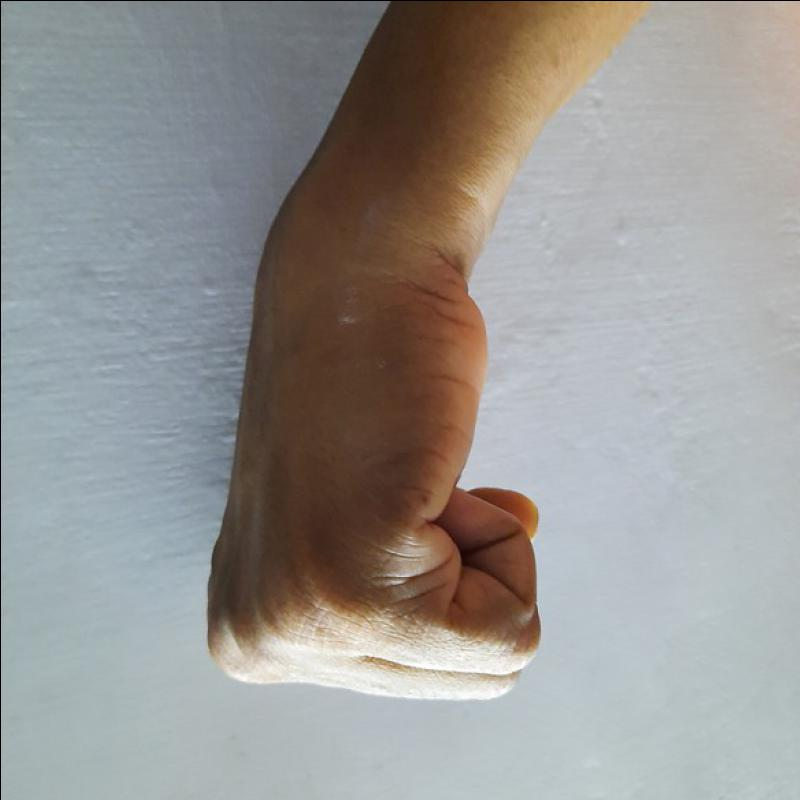Mushti: (194, 255, 557, 711)
